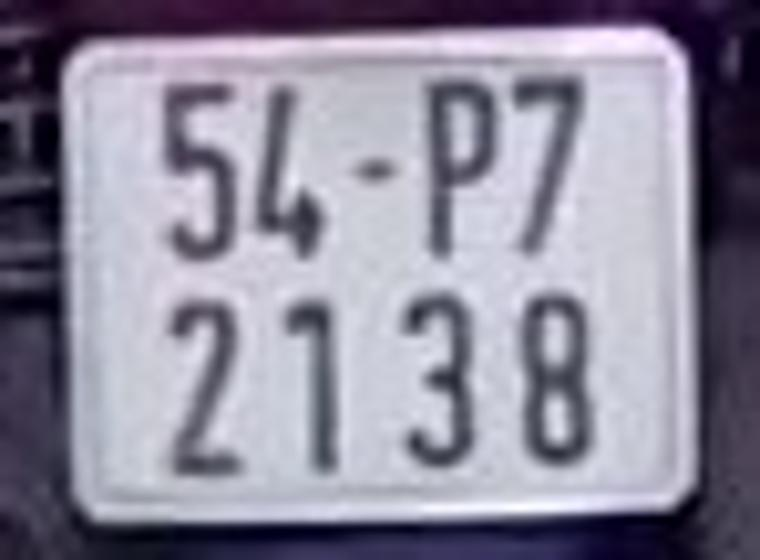-: (353, 151, 396, 186)
1: (277, 295, 342, 473)
2: (163, 297, 250, 479)
3: (400, 292, 481, 469)
4: (248, 87, 326, 262)
5: (157, 82, 239, 268)
7: (509, 69, 586, 261)
8: (520, 290, 598, 464)
P: (420, 75, 501, 259)
